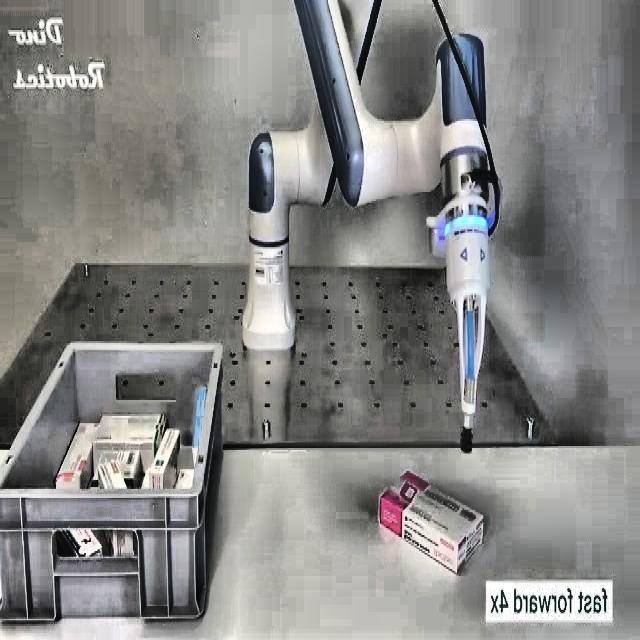robot: (242, 0, 501, 452)
